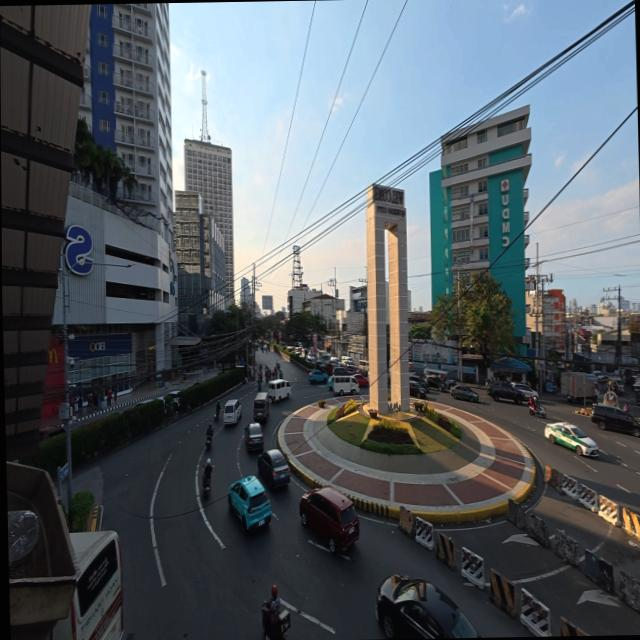Jeepneys: (423, 368, 446, 382)
bus: (52, 531, 122, 639)
car: (374, 574, 480, 638), (299, 486, 358, 552), (227, 475, 271, 533), (543, 422, 597, 456), (591, 405, 639, 436), (257, 449, 289, 487), (243, 423, 263, 451), (512, 382, 537, 400), (222, 400, 240, 424), (450, 386, 477, 402), (408, 374, 428, 392), (38, 426, 63, 440), (426, 377, 446, 392), (308, 368, 328, 383), (324, 360, 345, 374), (409, 381, 426, 398), (608, 378, 623, 393), (133, 398, 154, 408), (353, 374, 368, 387), (444, 379, 456, 392), (331, 366, 348, 375), (345, 363, 358, 374), (315, 361, 325, 373), (324, 362, 333, 374), (592, 371, 604, 380), (327, 376, 334, 390), (640, 398, 640, 411)
motorcycle: (261, 600, 290, 639), (528, 404, 546, 419), (202, 477, 210, 497), (205, 435, 212, 450), (213, 411, 219, 421), (264, 375, 268, 383), (258, 381, 261, 391)
trucks: (560, 372, 596, 401), (488, 381, 524, 404)
vans: (333, 375, 358, 395), (268, 379, 290, 400), (253, 393, 268, 423), (223, 400, 240, 424), (358, 360, 368, 372)
